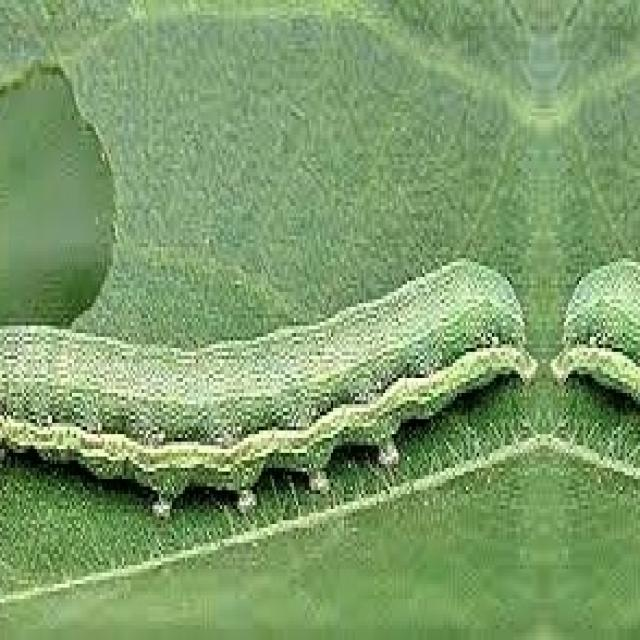Armyworm: (1, 242, 545, 536), (555, 170, 640, 554)
